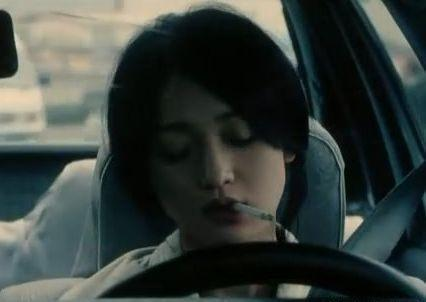Cigarette: (54, 9, 412, 302), (236, 200, 276, 222)
